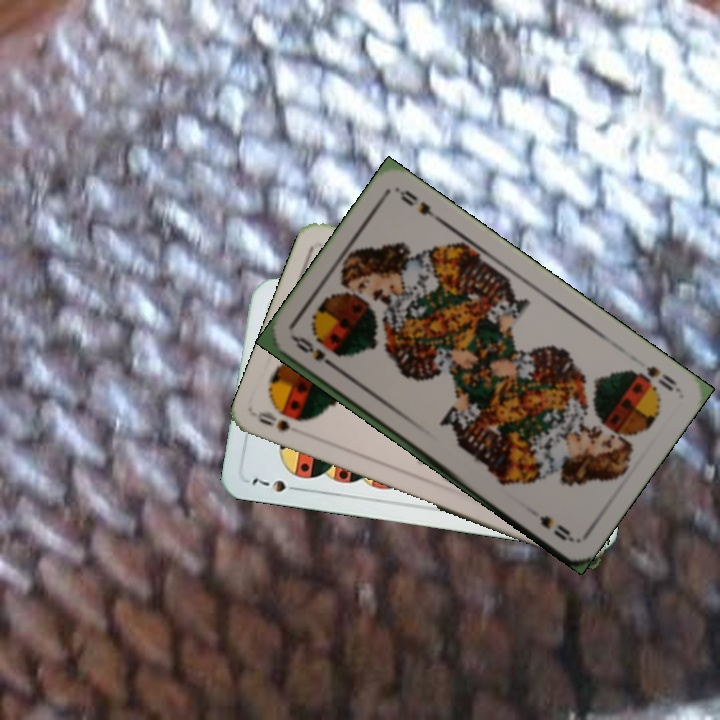S7: (248, 473, 304, 495)
SO: (289, 332, 341, 373), (634, 362, 682, 394), (253, 407, 293, 435)
